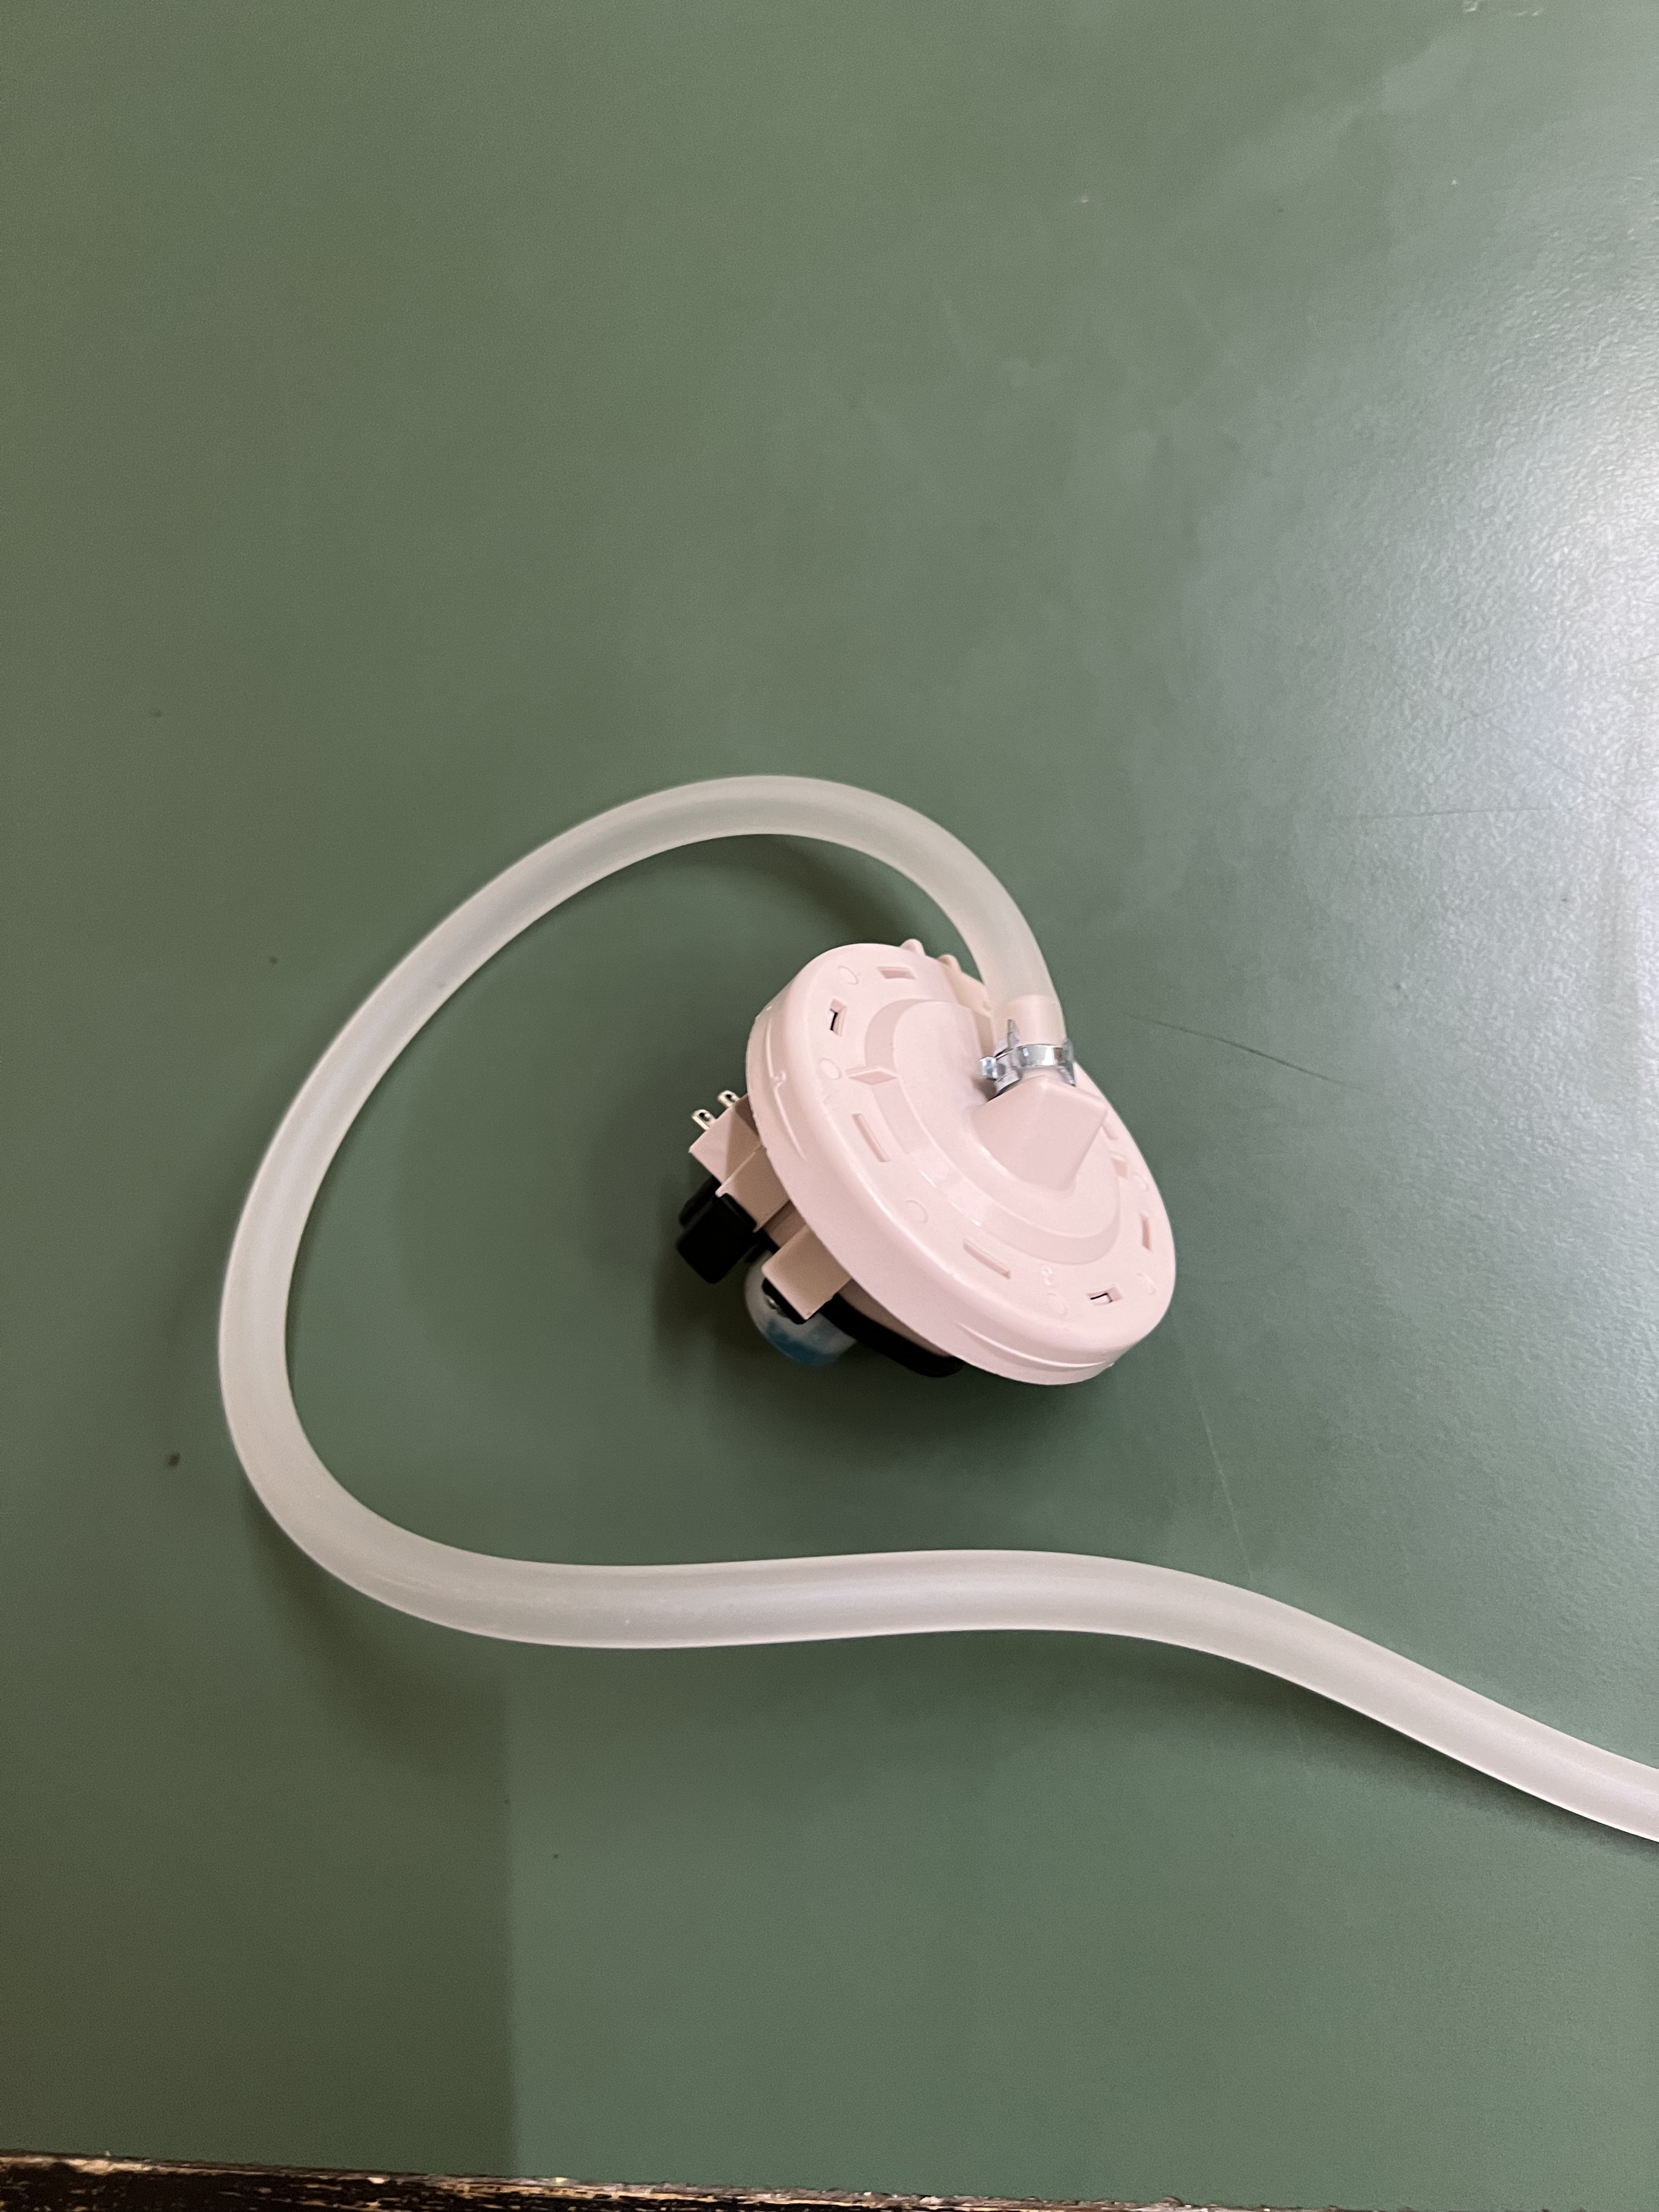pressure_sensor: (216, 768, 1502, 1740)
